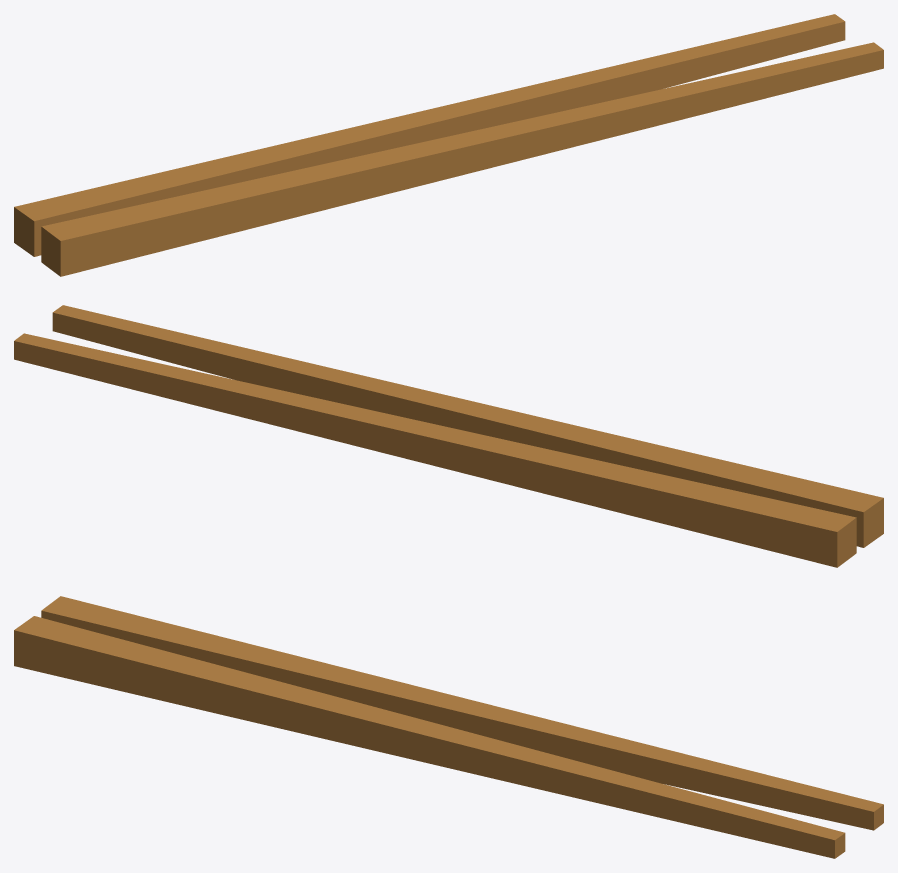
The model's file is SM_Cook_Chopsticks_01.obj.
3 renders of one model, top to bottom at view 1: azimuth 30°, elevation 25°; view 2: azimuth 150°, elevation 25°; view 3: azimuth 330°, elevation 25°, orthographic.
Parts seen in each view (by area): view 1: SM_Cook_Chopsticks_01; view 2: SM_Cook_Chopsticks_01; view 3: SM_Cook_Chopsticks_01.
Boxes of the visible parts, x1,y1,x2,y2 form: SM_Cook_Chopsticks_01: [14, 14, 883, 276]; SM_Cook_Chopsticks_01: [14, 305, 883, 567]; SM_Cook_Chopsticks_01: [14, 596, 883, 858].
Bounding box in the file's own units: 0.2401 × 0.01 × 0.0248.
1 material, 1 textured.
